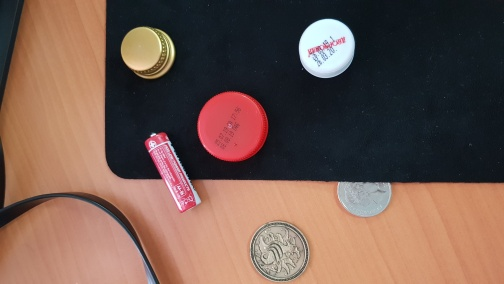coin: (249, 221, 311, 283), (336, 181, 393, 219)
